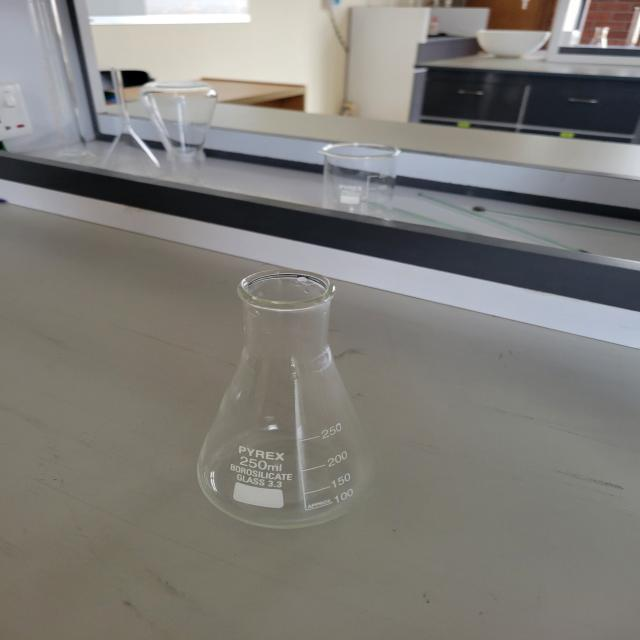Conical_Flask: (174, 259, 407, 542)
